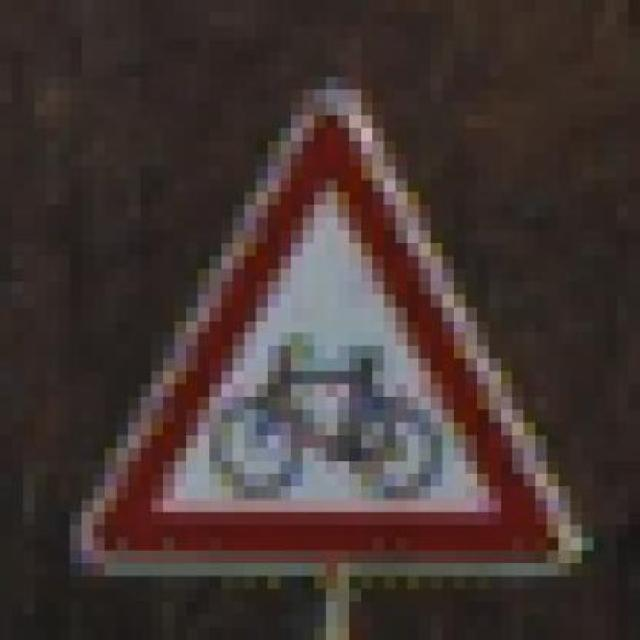CYCLE ROUTE AHEAD WARNING: (69, 51, 594, 602)
